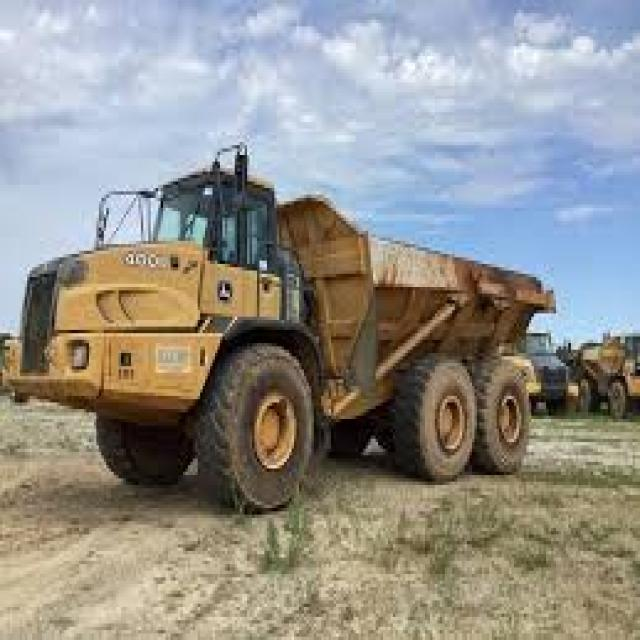dump_truck: (0, 119, 581, 495)
